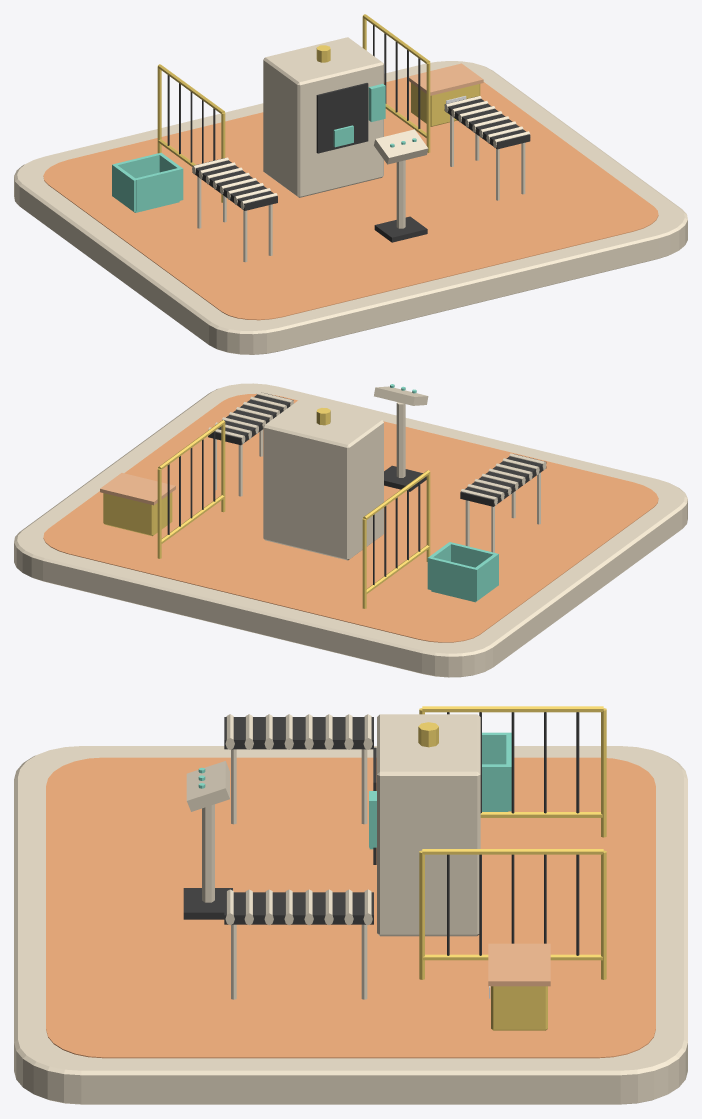
3 renders of one model, top to bottom at view 1: azimuth 30°, elevation 25°; view 2: azimuth 150°, elevation 25°; view 3: azimuth 270°, elevation 25°, orthographic. The views are drawn at different scales.
Parts seen in each view (by area): view 1: COM-02 Floor Surface, COM-01 Rounded Base Direct, Machine, Cabinet window, Belt.001, Belt, Bin end, Box, Lid, Control console, Bin side, Foot (+3 smaller); view 2: COM-02 Floor Surface, COM-01 Rounded Base Direct, Machine, Box, Belt, Bin end.001, Lid, Belt.001, Bin side, Stand, Bin end, Control console (+1 smaller); view 3: COM-02 Floor Surface, COM-01 Rounded Base Direct, Machine, Belt, Belt.001, Lid, Box, Control console, Bin side.001, Rail.001, Stand, Foot (+7 smaller).
Boxes of the visible parts, x1,y1,x2,y2 form: COM-02 Floor Surface: (43,77,658,320); COM-01 Rounded Base Direct: (14,61,687,354); Machine: (263,37,383,197); Cabinet window: (316,83,368,153); Belt.001: (444,96,530,149); Belt: (192,158,277,210); Bin end: (135,168,180,211); Box: (411,83,480,126); Lid: (409,63,483,95); Control console: (374,129,428,164); Bin side: (112,164,136,211); Foot: (374,216,427,242); COM-02 Floor Surface: (43,393,658,642); COM-01 Rounded Base Direct: (14,383,687,677); Machine: (263,400,383,560); Box: (103,492,172,536); Belt: (460,454,546,506); Bin end.001: (430,557,475,600); Lid: (100,473,175,505); Belt.001: (208,392,293,445); Bin side: (474,553,498,601); Stand: (396,402,405,477); Bin end: (450,542,495,567); Control console: (374,386,428,405); COM-02 Floor Surface: (46,757,655,1058); COM-01 Rounded Base Direct: (14,746,687,1104); Machine: (377,714,480,936); Belt: (224,717,373,749); Belt.001: (224,892,373,924); Lid: (488,943,550,986); Box: (491,986,547,1030); Control console: (186,761,229,811); Bin side.001: (482,764,511,811); Rail.001: (422,706,603,712); Stand: (202,804,214,902); Foot: (183,888,232,919).
Bounding box in the file's own units: 6 × 1.84 × 5.2.
1 material, 1 textured.
